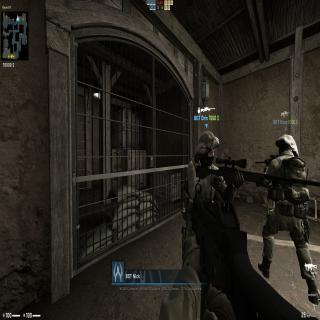CT-Head: (193, 129, 219, 166), (274, 132, 299, 157)
